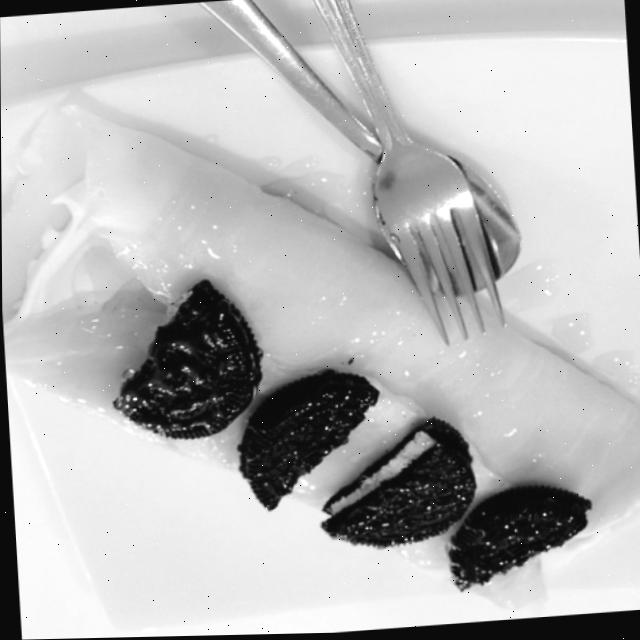蛋糕甜品: (1, 79, 640, 611)
